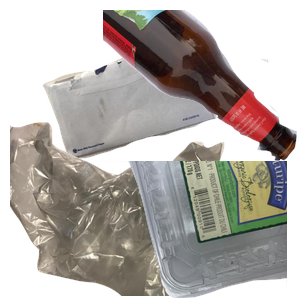glass: (103, 10, 300, 163)
paper: (40, 35, 249, 187)
plastic: (60, 161, 300, 300)
trash: (10, 120, 231, 300)
